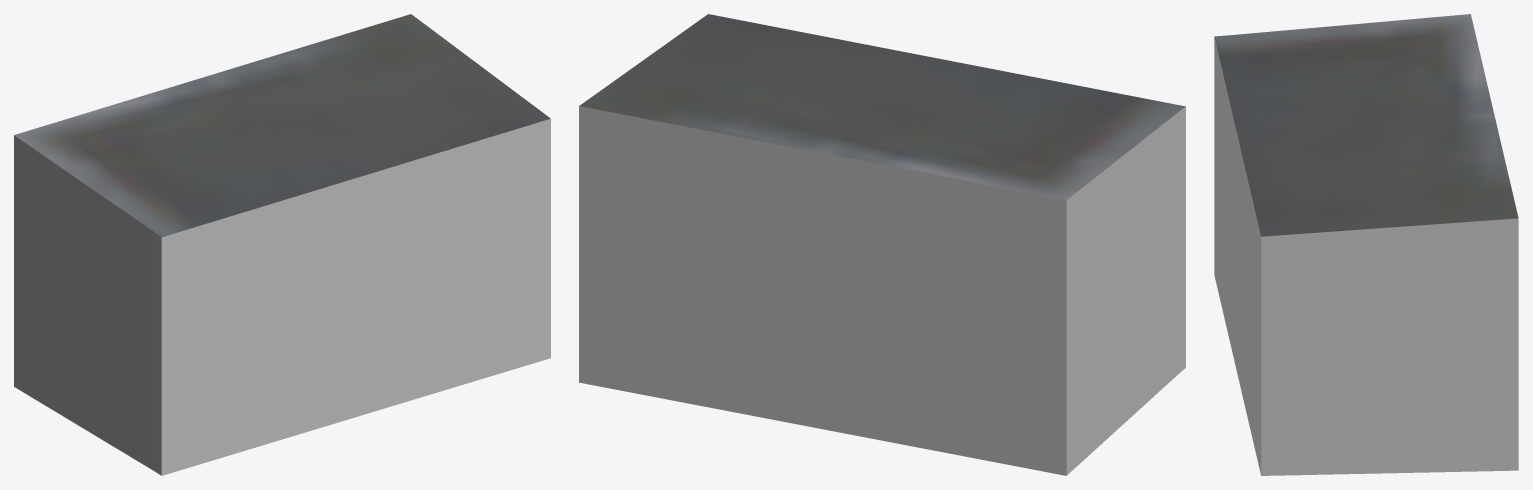
The model's file is DEBW_0010007Tx8U.gltf.
The picture shows the model from 3 angles, left to right: view 1: azimuth 30°, elevation 25°; view 2: azimuth 150°, elevation 25°; view 3: azimuth 270°, elevation 25°; orthographic projection. The views are drawn at different scales.
Parts seen in each view (by area): view 1: Z_UP; view 2: Z_UP; view 3: Z_UP.
Part boxes in pixels (<box>): Z_UP: <box>14,14,550,475</box>; Z_UP: <box>579,14,1185,475</box>; Z_UP: <box>1214,14,1518,475</box>.
Size of the model in its own units: 5.11 by 2.85 by 3.12.
Materials: 2 (1 with a texture image).
